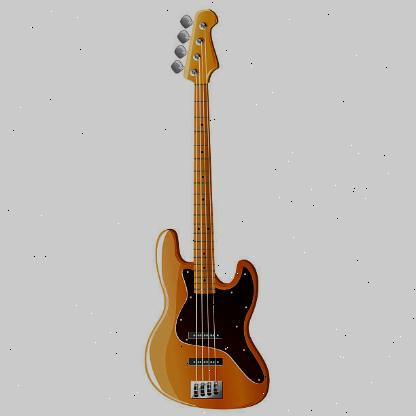bass: (144, 6, 270, 410)
